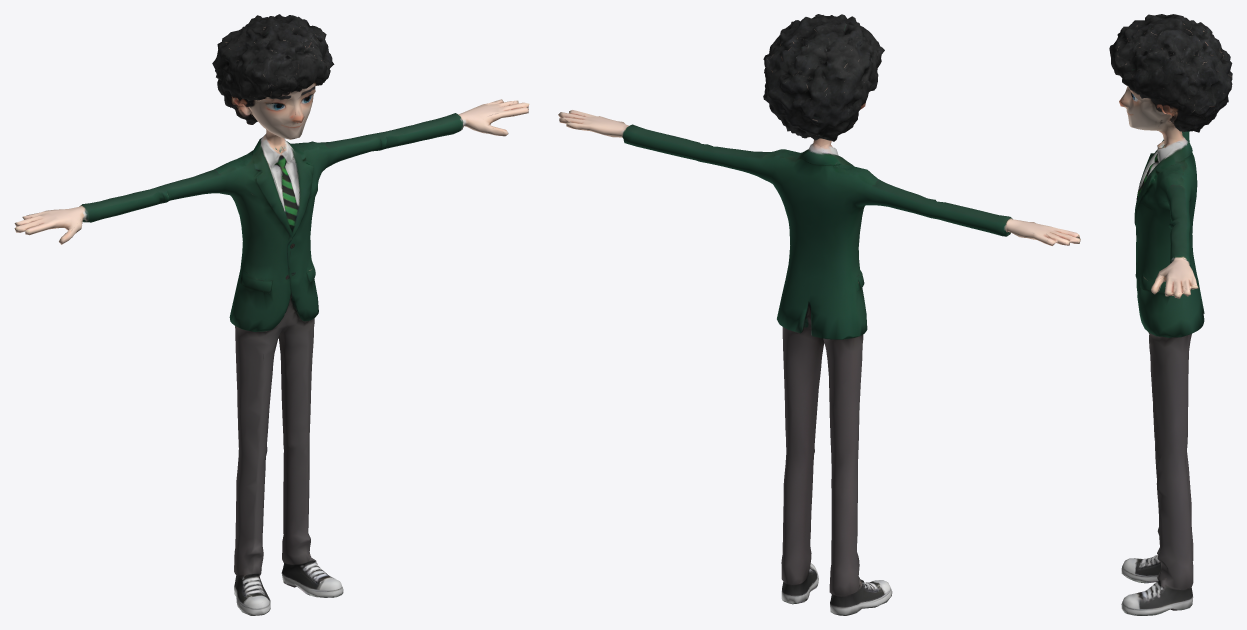
File: Meshy_AI_Cartoon_Character_in__0108084935_texture.fbx
3 renders of one model, left to right at view 1: azimuth 30°, elevation 25°; view 2: azimuth 150°, elevation 25°; view 3: azimuth 270°, elevation 25°, orthographic.
Visible parts, largest first — view 1: Mesh_0; view 2: Mesh_0; view 3: Mesh_0.
Part boxes in pixels (box(x1,y1,x2,y2)): Mesh_0: box(14, 14, 529, 615); Mesh_0: box(558, 14, 1080, 615); Mesh_0: box(1109, 14, 1232, 615).
Bounding box in the file's own units: 180 × 192 × 37.32.
1 material, 1 textured.
